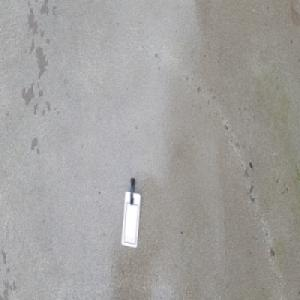LuggageTag: (121, 177, 142, 250)
